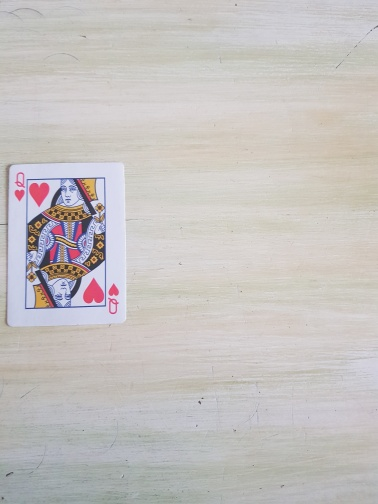queen: (5, 161, 128, 329)
